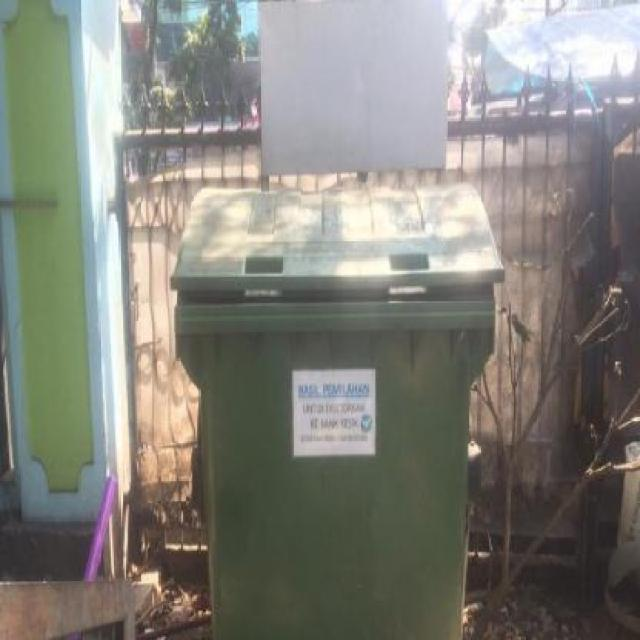garbage container: (164, 174, 509, 640)
